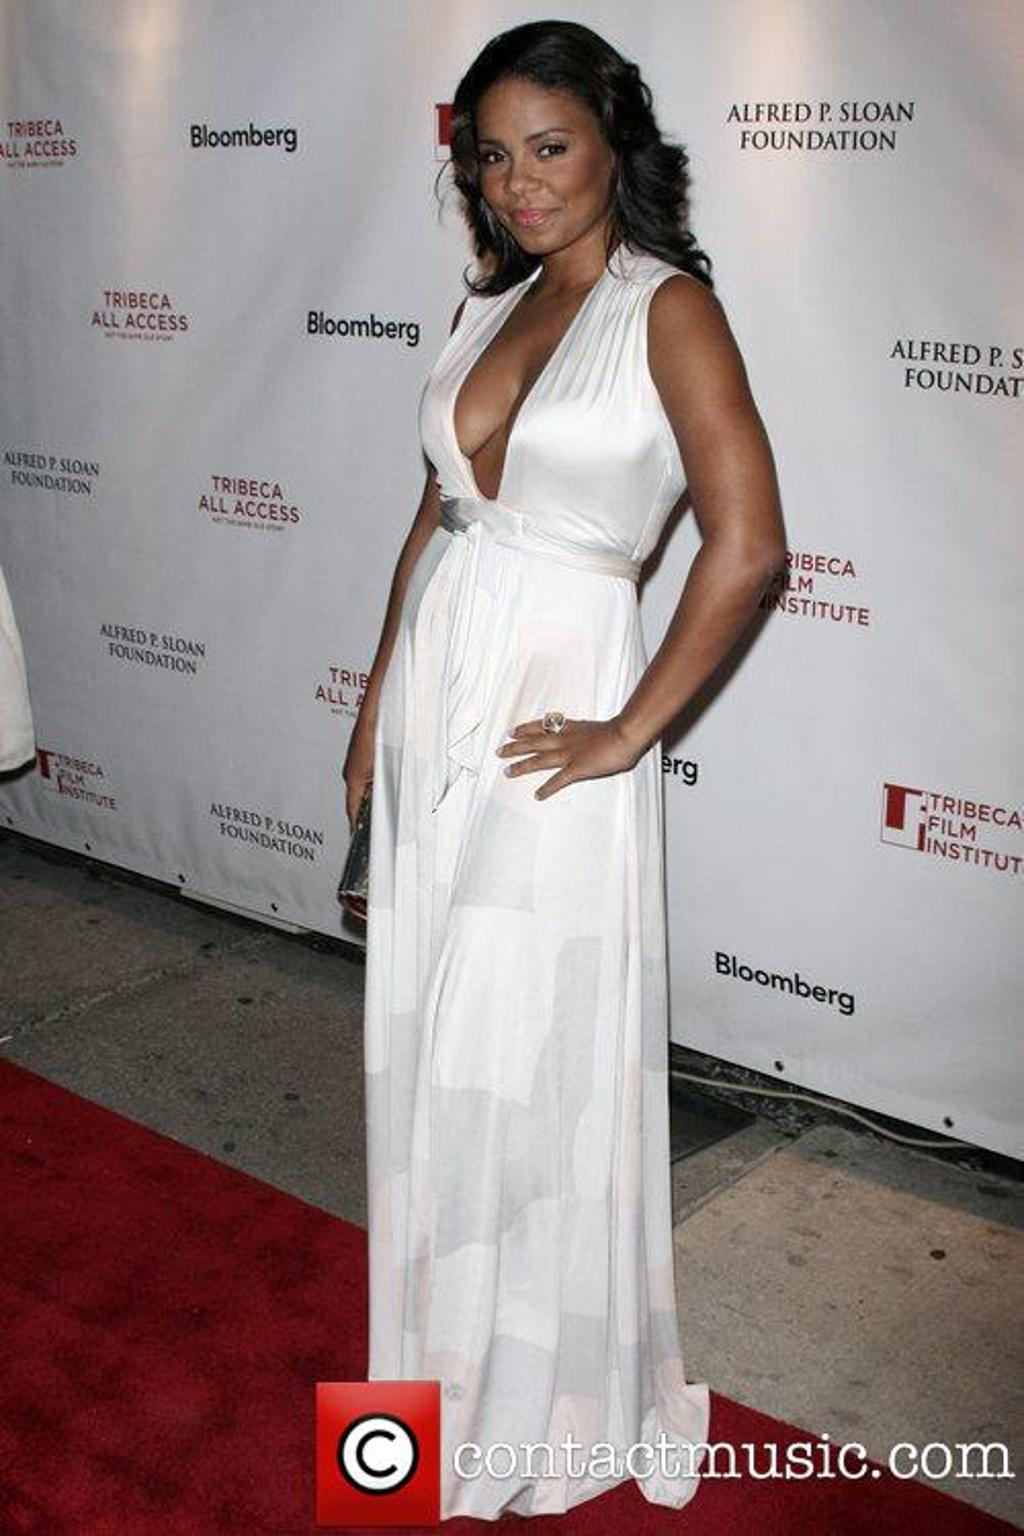face: (474, 75, 612, 255)
